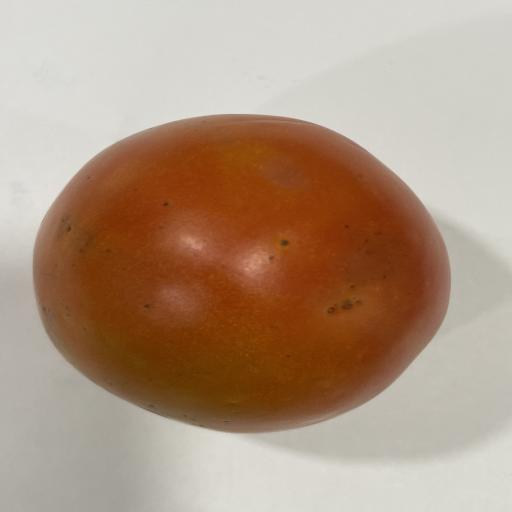unripe: (34, 115, 450, 433)
